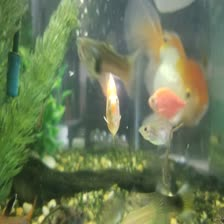Cuezo: (119, 5, 211, 126)
Guppy: (68, 30, 139, 89)
Plano: (98, 74, 122, 138)
